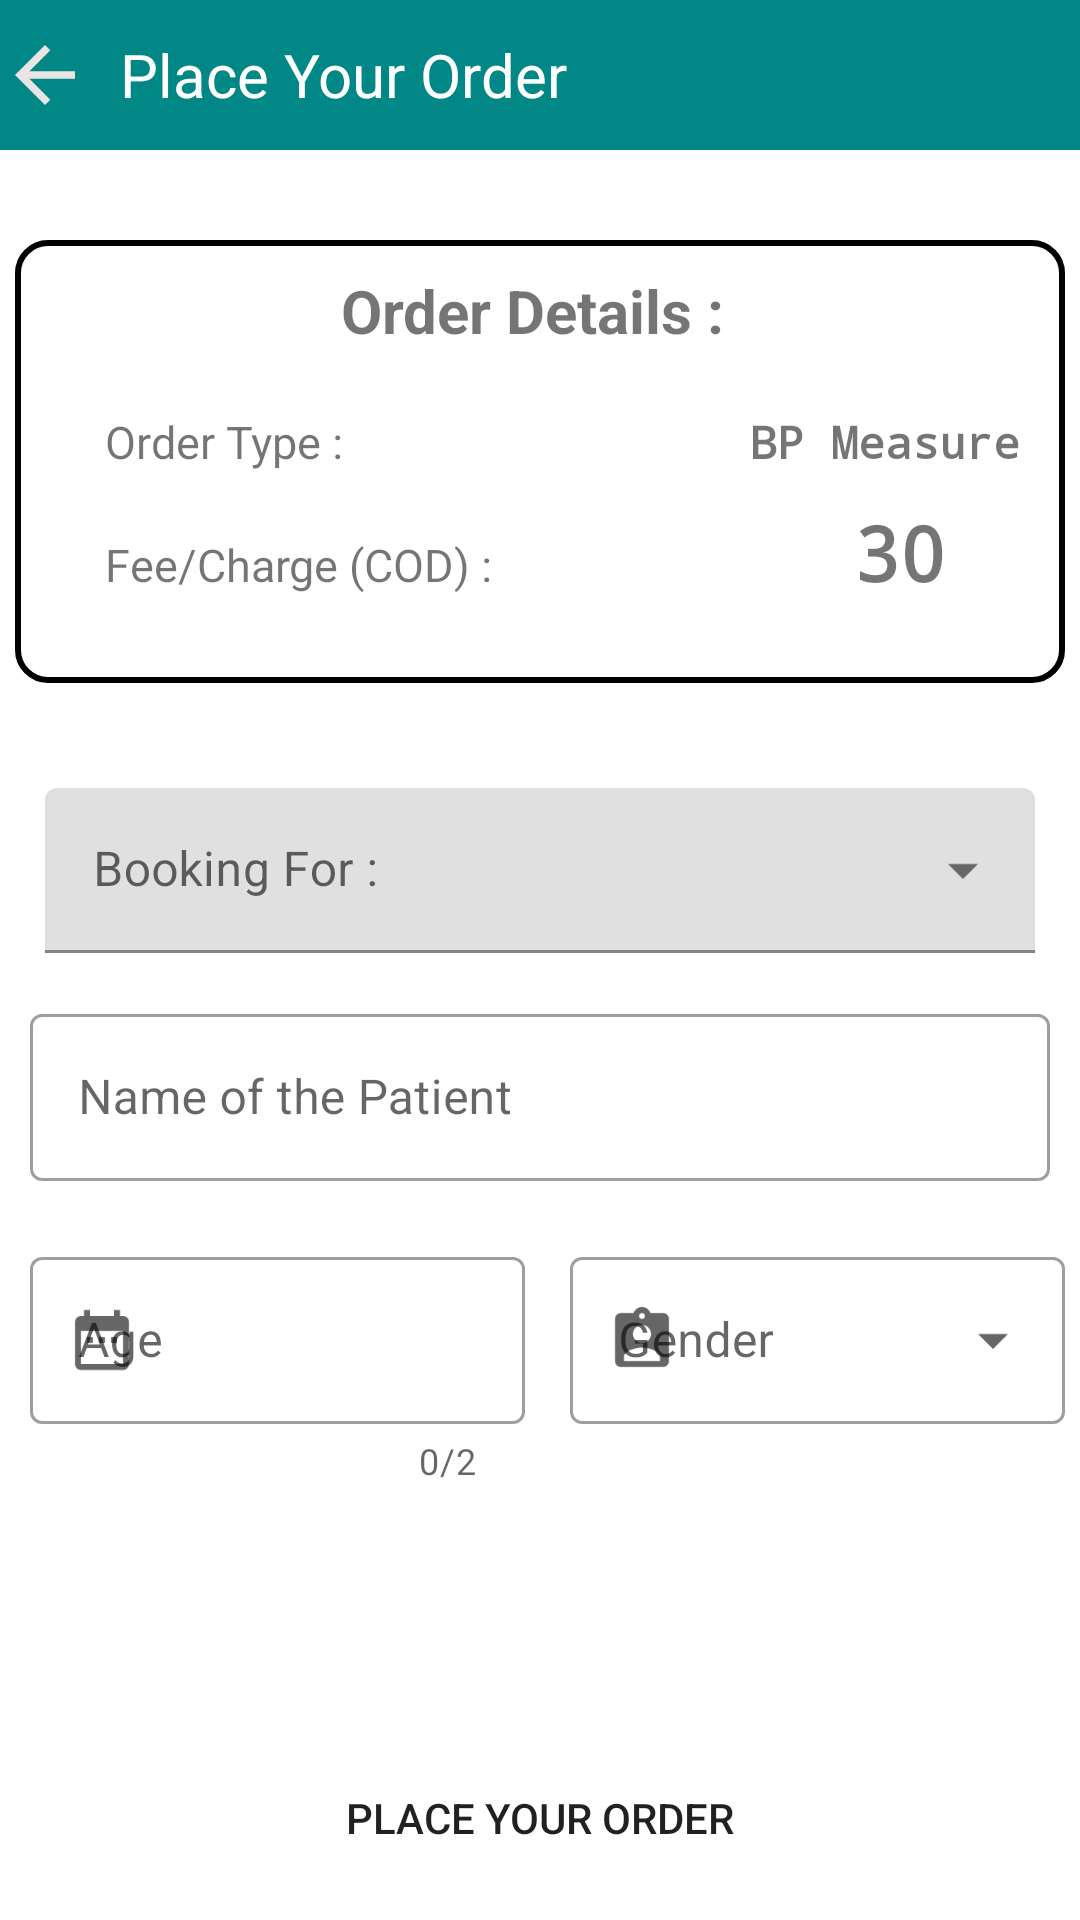

Screen size 1080px×1920px. Icon name, then its box in pixels as (x1,y1,x2,y2):
back: (15,45,75,105)
